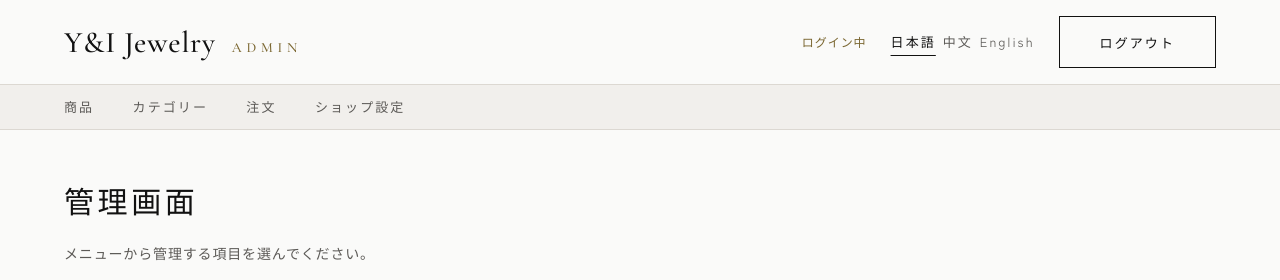
Test case: admin sections not built yet show a placeholder, and the navigation marks the current one
The width and height of the screenshot is (1280, 280).
Click the link "注文" at x=262, y=106, box [246,97,277,116]
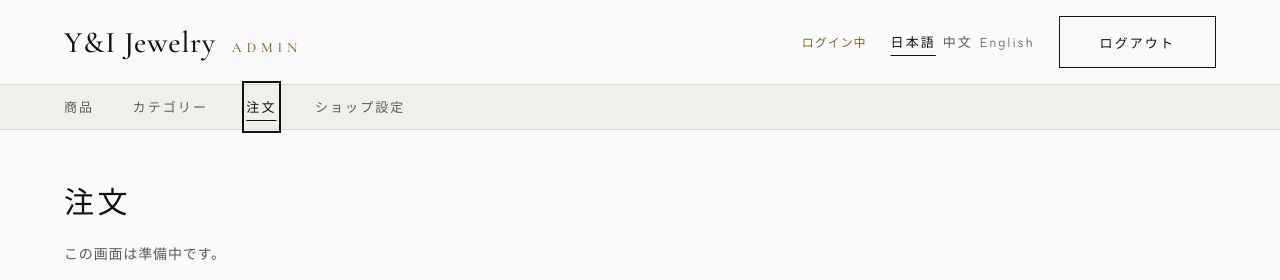
Now the heading "注文" is shown, box [64,178,131,222]
Now the text "この画面は準備中です。" is shown, box [64,243,226,263]
